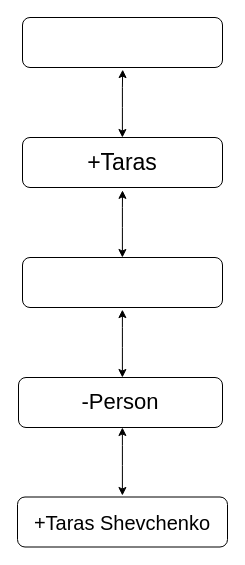
The diagram is 245 pixels wide and 565 high, and some of its shapes have lost their labels. The centre of each missing label's shape, as x and y in pixels:
"+Shevchenko" goes at point 122,282.
"User" goes at point 122,42.
